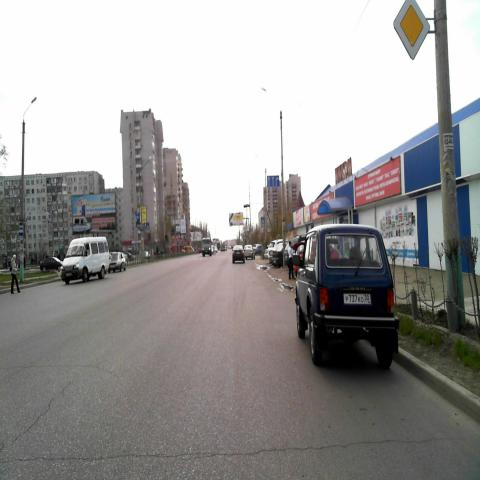2_1: (394, 0, 430, 60)
5_15_1: (267, 174, 279, 187)
